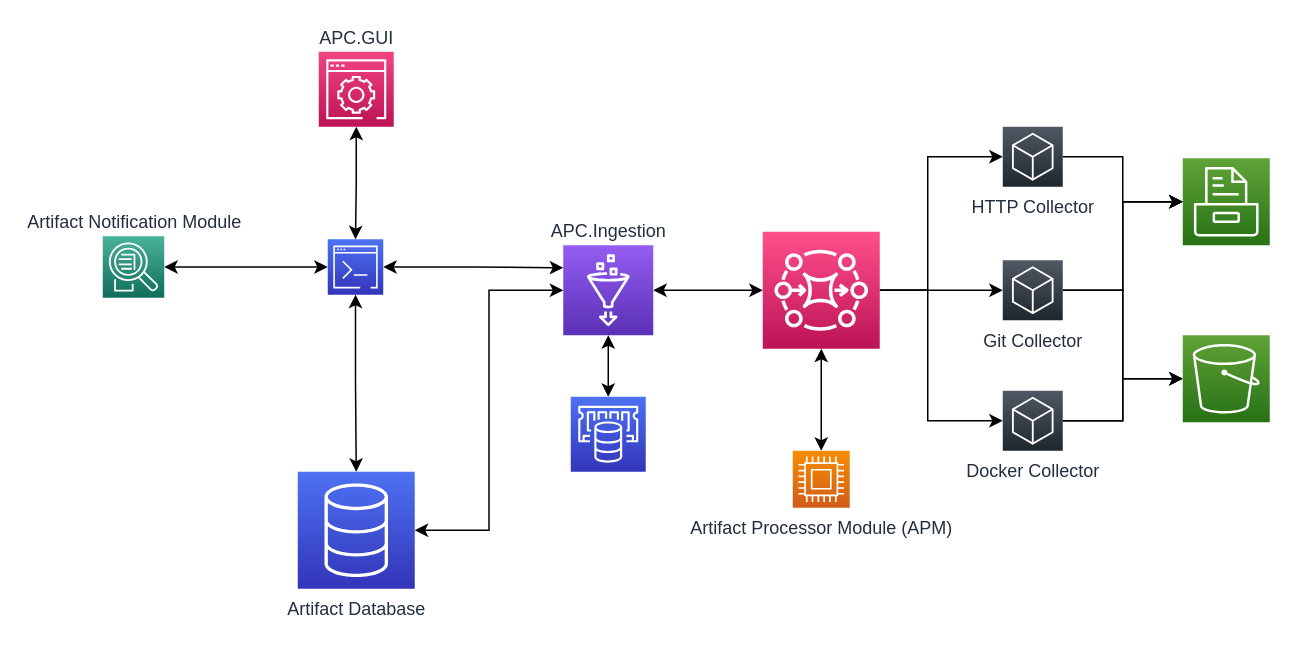
Image size: 1296x645. Some labels were removed from this diagram. The shapes that lost their labels are listed below. From the top down, each one's centre as x and y in pixels, then its label:
the point at 1225,201: Raw Disk
the point at 354,266: APC.API (REST)
the point at 1225,378: S3
the point at 607,433: Redis Cache
